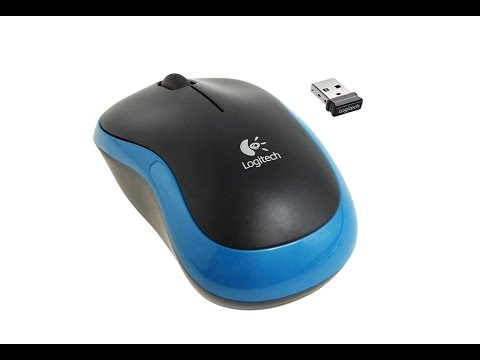logitech-mouse-m185: (91, 65, 370, 308)
